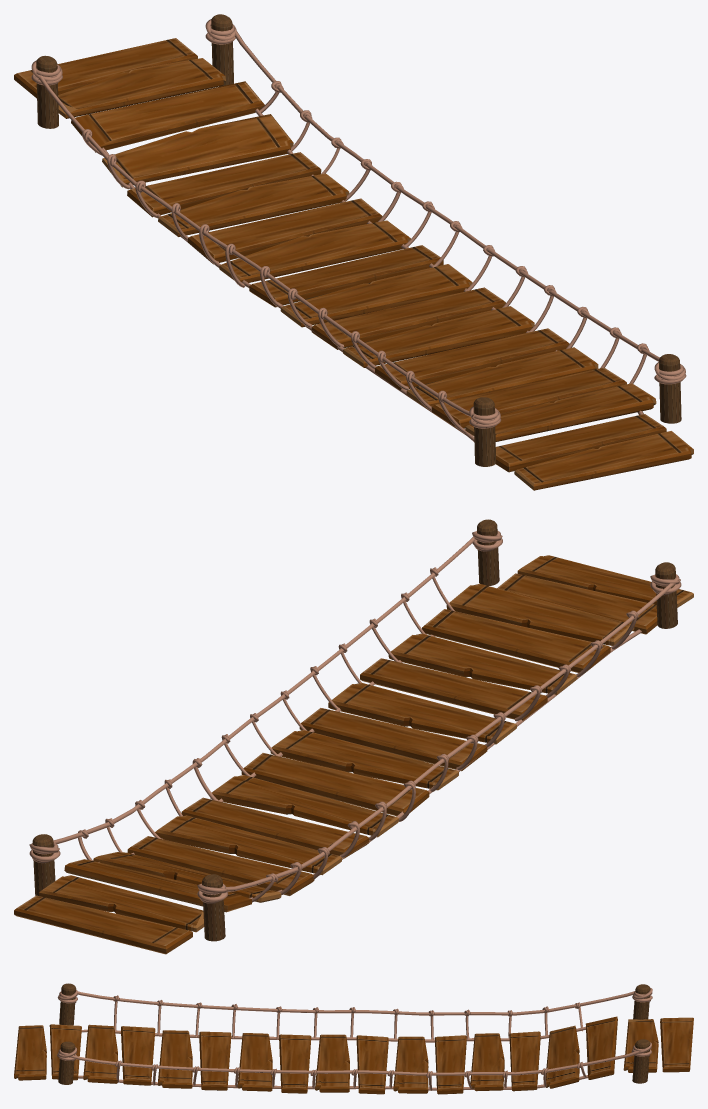
3 renders of one model, top to bottom at view 1: azimuth 30°, elevation 25°; view 2: azimuth 150°, elevation 25°; view 3: azimuth 270°, elevation 25°, orthographic. The views are drawn at different scales.
Parts seen in each view (by area): view 1: 橋3; view 2: 橋3; view 3: 橋3.
Boxes of the visible parts, x1,y1,x2,y2 form: 橋3: (14, 14, 693, 490); 橋3: (14, 519, 693, 954); 橋3: (14, 983, 693, 1094).
Bounding box in the file's own units: 723 × 277 × 3076.
Materials: 3 (2 with a texture image).
